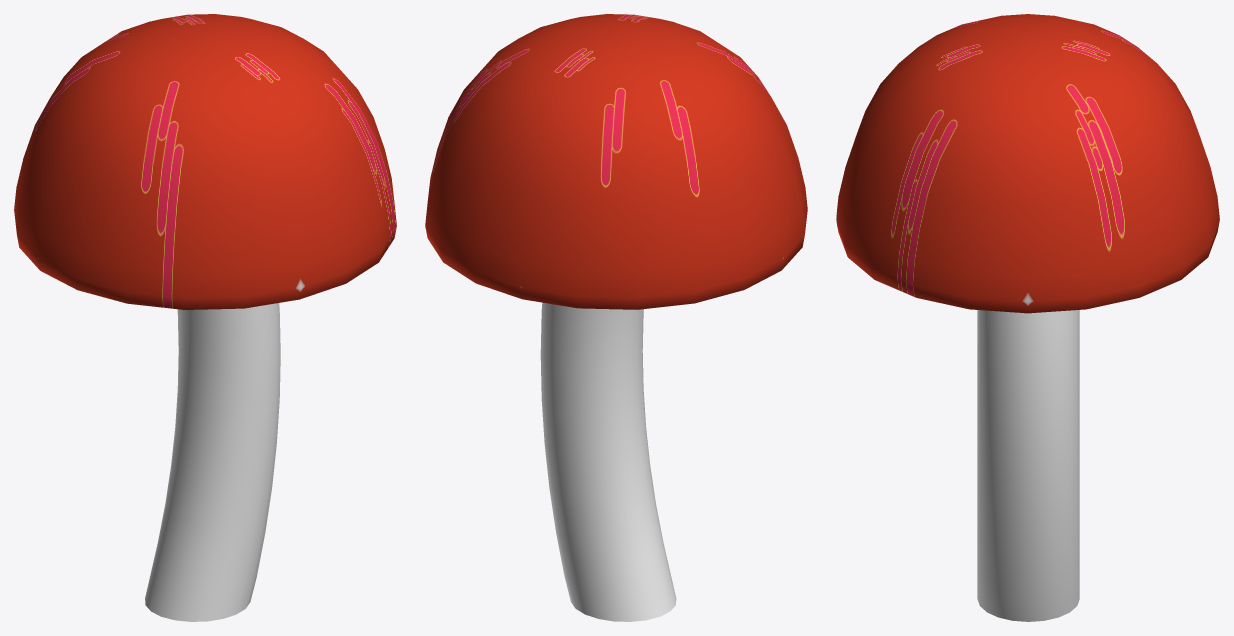
Rendered from shroom_6.dae.
The picture shows the model from 3 angles, left to right: view 1: azimuth 30°, elevation 25°; view 2: azimuth 150°, elevation 25°; view 3: azimuth 270°, elevation 25°; orthographic projection.
Parts seen in each view (by area): view 1: pasted__polySurface3; view 2: pasted__polySurface3; view 3: pasted__polySurface3.
Boxes of the visible parts, x1,y1,x2,y2 form: pasted__polySurface3: (14, 14, 396, 621); pasted__polySurface3: (425, 14, 807, 621); pasted__polySurface3: (836, 14, 1219, 621).
Size of the model in its own units: 0.6209 by 0.9957 by 0.6134.
2 materials, 2 textured.
